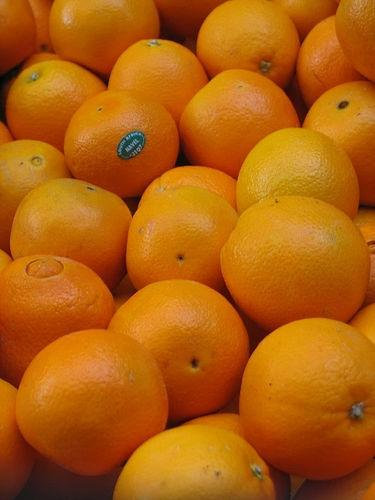orange: (14, 329, 168, 476), (239, 317, 375, 480), (107, 278, 251, 422), (220, 196, 371, 333), (0, 254, 118, 390), (126, 186, 240, 310), (178, 68, 301, 182), (64, 90, 180, 198), (113, 424, 276, 498), (235, 128, 360, 222), (180, 413, 292, 500), (107, 39, 209, 132), (195, 0, 300, 90), (301, 81, 375, 207), (0, 100, 67, 239), (48, 0, 160, 79), (296, 14, 370, 111), (16, 453, 126, 500), (138, 166, 238, 212), (0, 378, 36, 499), (291, 456, 375, 500), (267, 0, 341, 45), (335, 0, 375, 82), (153, 0, 231, 39), (0, 0, 36, 75), (235, 305, 272, 357), (27, 0, 55, 57), (356, 225, 374, 308), (284, 73, 310, 128), (19, 50, 61, 74), (348, 304, 371, 344), (216, 388, 240, 415), (290, 474, 306, 500), (0, 121, 14, 146), (0, 249, 14, 272), (182, 38, 197, 56)
